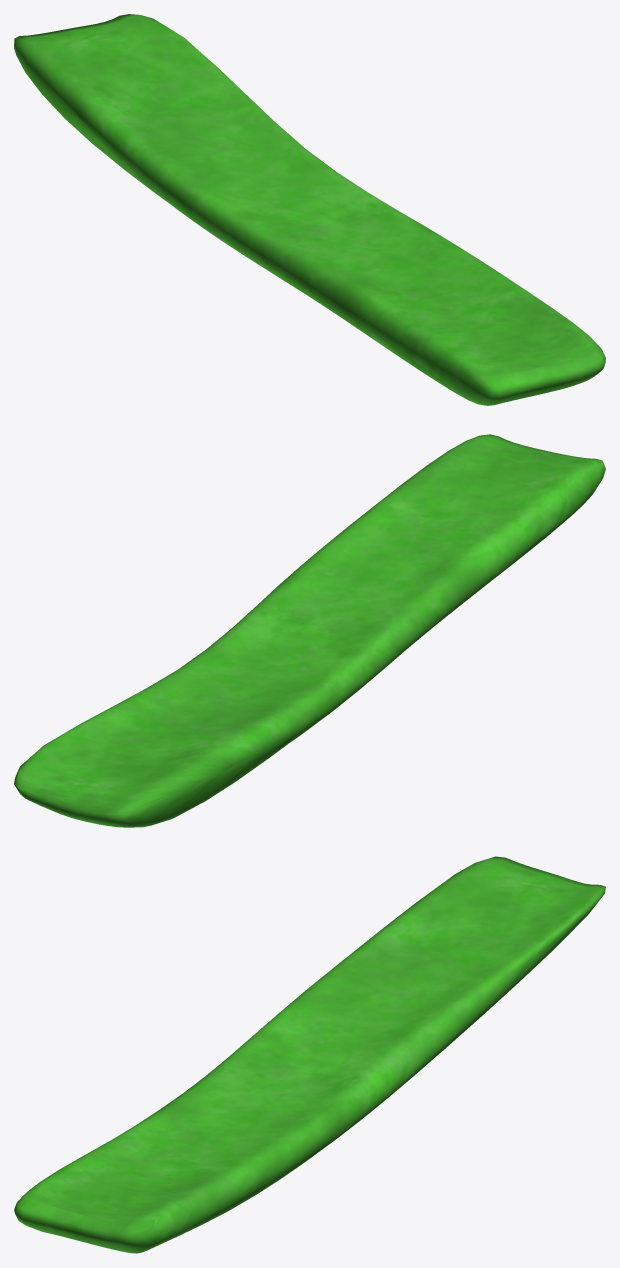
Rendered from LilyPodBridge.fbx.
3 renders of one model, top to bottom at view 1: azimuth 30°, elevation 25°; view 2: azimuth 150°, elevation 25°; view 3: azimuth 330°, elevation 25°, orthographic.
Visible parts, largest first — view 1: Cube_293; view 2: Cube_293; view 3: Cube_293.
Part boxes in pixels (box(x1,y1,x2,y2)): Cube_293: box(14, 14, 605, 405); Cube_293: box(14, 434, 605, 827); Cube_293: box(14, 856, 605, 1253).
Bounding box in the file's own units: 0.2981 × 0.1295 × 1.59.
